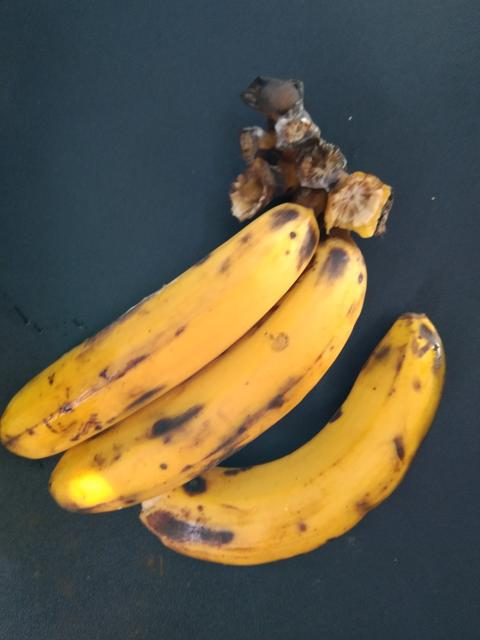overripe: (134, 320, 447, 595), (64, 244, 374, 507), (22, 210, 309, 456)
